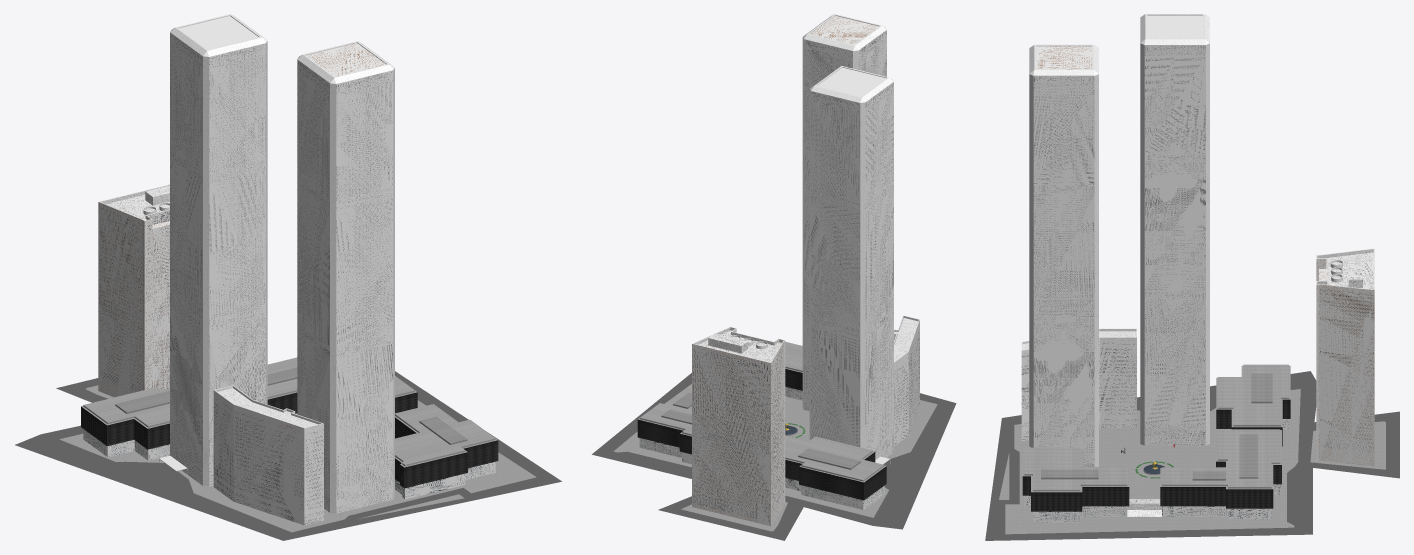
The picture shows the model from 3 angles, left to right: view 1: azimuth 30°, elevation 25°; view 2: azimuth 150°, elevation 25°; view 3: azimuth 270°, elevation 25°; orthographic projection. The views are drawn at different scales.
Parts seen in each view (by area): view 1: instance_0.262, instance_0.346, instance_0.268, instance_0.014, instance_0.283, instance_0.260, instance_0.319, instance_0.279, instance_0.002, instance_0.003, instance_0.280, instance_0.298 (+27 smaller); view 2: instance_0.013, instance_0.346, instance_0.270, instance_0.256, instance_0.287, instance_0.003, instance_0.280, instance_0.282, instance_0.338, instance_0.288, instance_0.262, instance_0.241 (+22 smaller); view 3: instance_0.338, instance_0.346, instance_0.017, instance_0.294, instance_0.305, instance_0.301, instance_0.290, instance_0.296, instance_0.315, instance_0.002, instance_0.003, instance_0.262 (+22 smaller).
Boxes of the visible parts, box(x1,y1,x2,y2) form: instance_0.262: box(213, 390, 323, 525); instance_0.346: box(15, 371, 561, 540); instance_0.268: box(336, 197, 393, 346); instance_0.014: box(99, 203, 141, 396); instance_0.283: box(209, 170, 265, 319); instance_0.260: box(336, 344, 393, 489); instance_0.319: box(336, 82, 393, 199); instance_0.279: box(209, 55, 265, 172); instance_0.002: box(297, 41, 394, 513); instance_0.003: box(170, 14, 267, 486); instance_0.280: box(170, 159, 202, 319); instance_0.298: box(297, 186, 329, 345); instance_0.013: box(693, 345, 769, 524); instance_0.346: box(592, 373, 956, 540); instance_0.270: box(811, 200, 860, 329); instance_0.256: box(811, 327, 860, 447); instance_0.287: box(811, 101, 860, 202); instance_0.003: box(809, 66, 893, 448); instance_0.280: box(865, 191, 893, 328); instance_0.282: box(865, 318, 893, 449); instance_0.338: box(613, 396, 937, 517); instance_0.288: box(865, 92, 893, 201); instance_0.262: box(894, 320, 919, 446); instance_0.241: box(785, 436, 884, 481); instance_0.338: box(1005, 389, 1300, 534); instance_0.346: box(985, 371, 1399, 540); instance_0.017: box(1320, 286, 1373, 465); instance_0.294: box(1144, 163, 1205, 290); instance_0.305: box(1033, 194, 1094, 321); instance_0.301: box(1144, 300, 1205, 423); instance_0.290: box(1033, 331, 1094, 453); instance_0.296: box(1144, 56, 1205, 153); instance_0.315: box(1033, 86, 1094, 183); instance_0.002: box(1029, 44, 1098, 466); instance_0.003: box(1140, 14, 1209, 445); instance_0.262: box(1021, 337, 1136, 441).
Size of the model in its own units: 37435 by 41566 by 38594.
51 materials, 35 textured.
